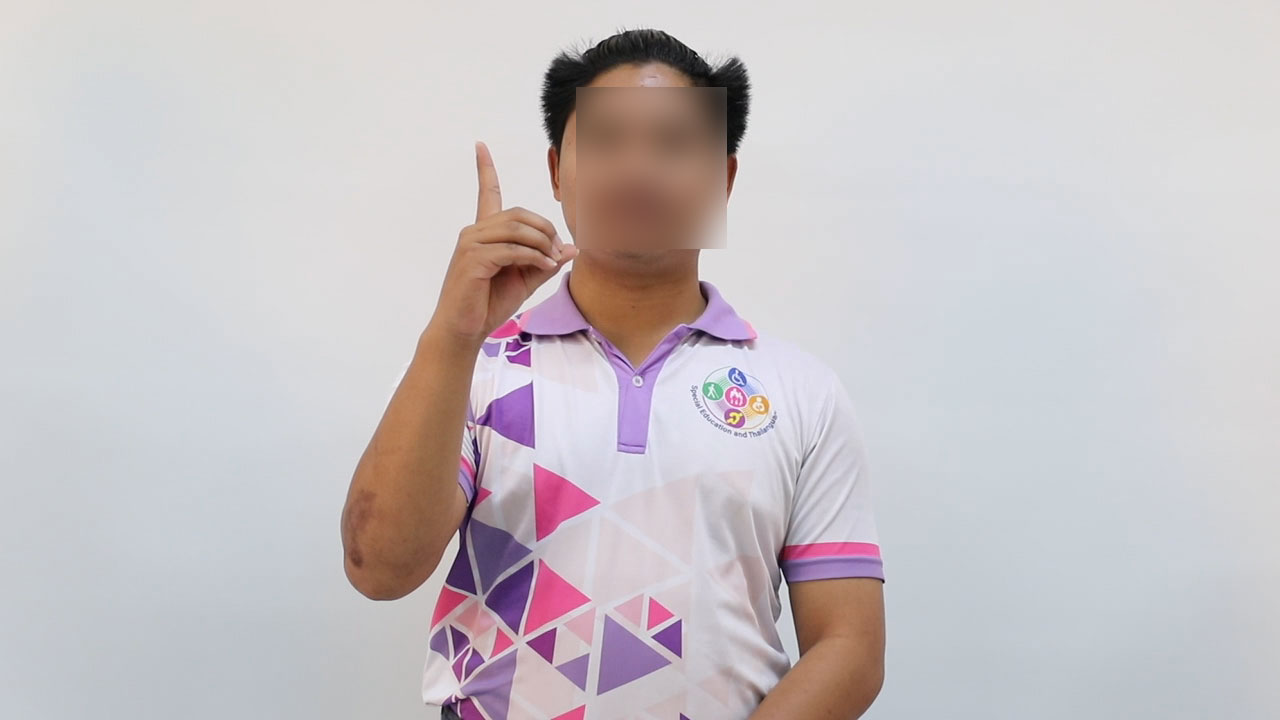dor: (415, 132, 587, 347)
